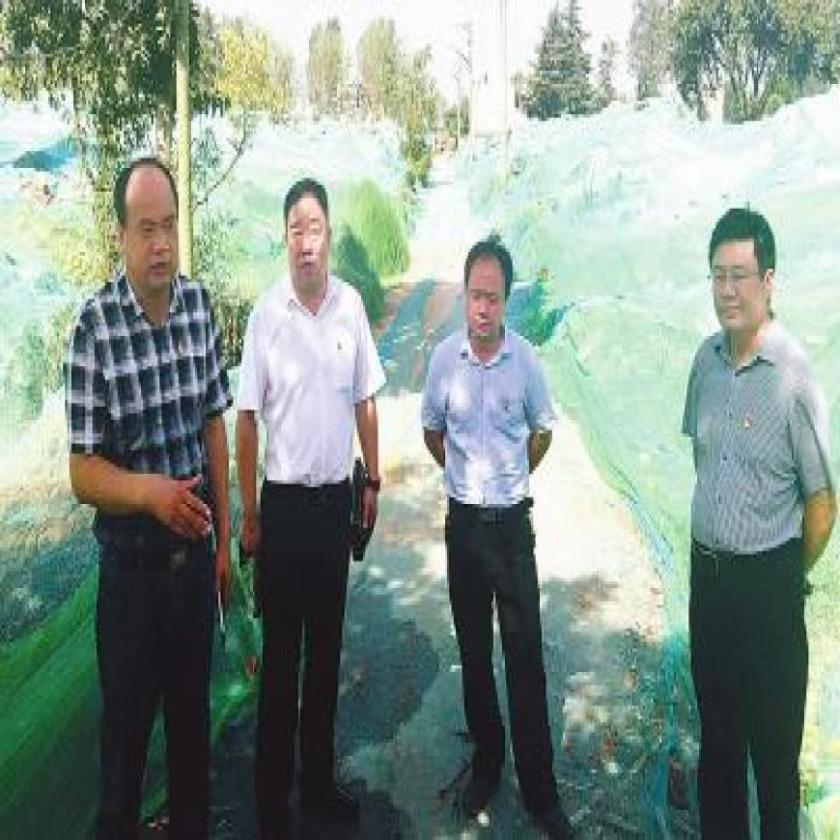Sin_casco: (695, 204, 781, 348), (112, 158, 188, 309), (277, 177, 340, 292), (458, 232, 520, 342)
